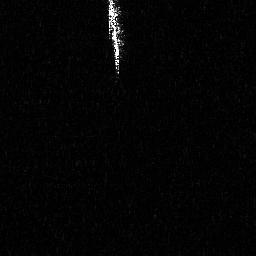ship: (106, 1, 129, 80)
